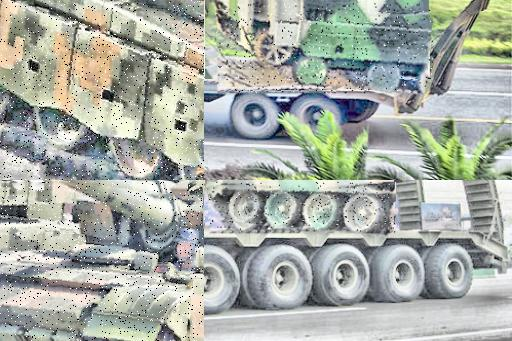tanks: (1, 1, 205, 181), (1, 181, 205, 341), (1, 183, 203, 341), (217, 5, 434, 94), (210, 184, 396, 233)
